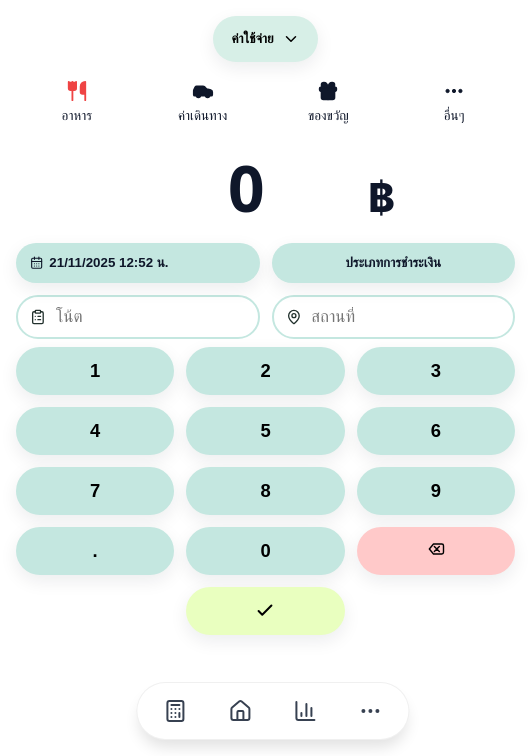
Test: Expense Component › Amount Input › should handle keypad clicks correctly
The image size is (532, 756).
Step 1. Click the button "5" → (265, 431), box [186,407,345,455]
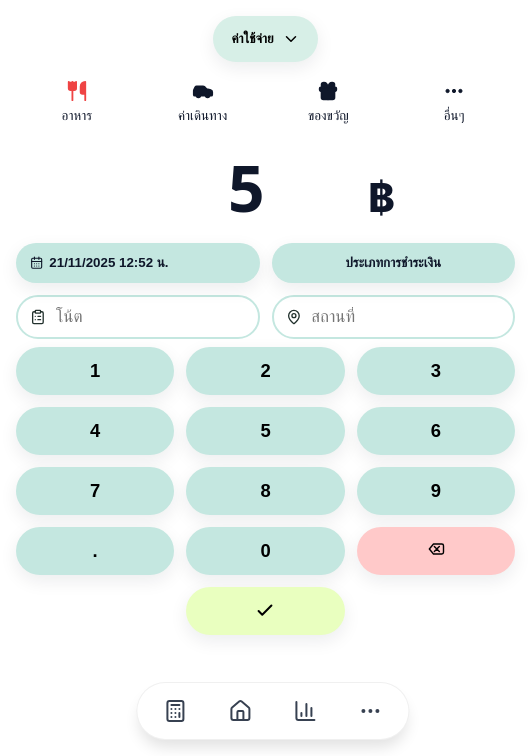
Step 2. Click the button "0" → (265, 551), box [186,527,345,575]
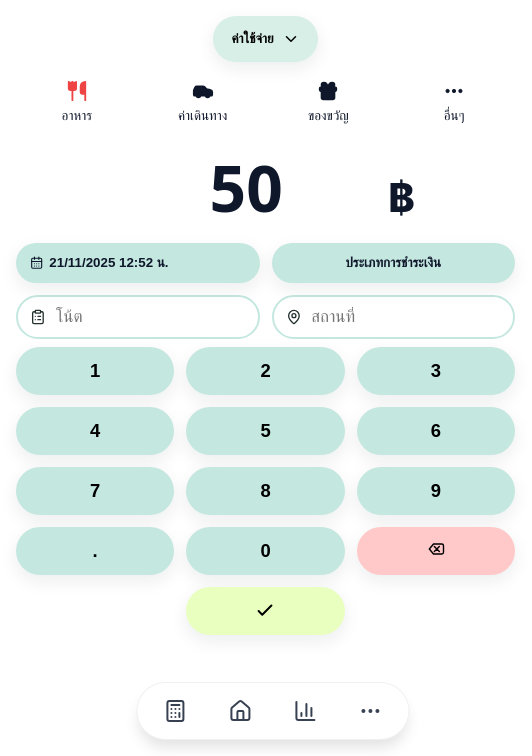
Expected: the field named "จำนวนเงิน" holds "50", [116,144,376,231]
